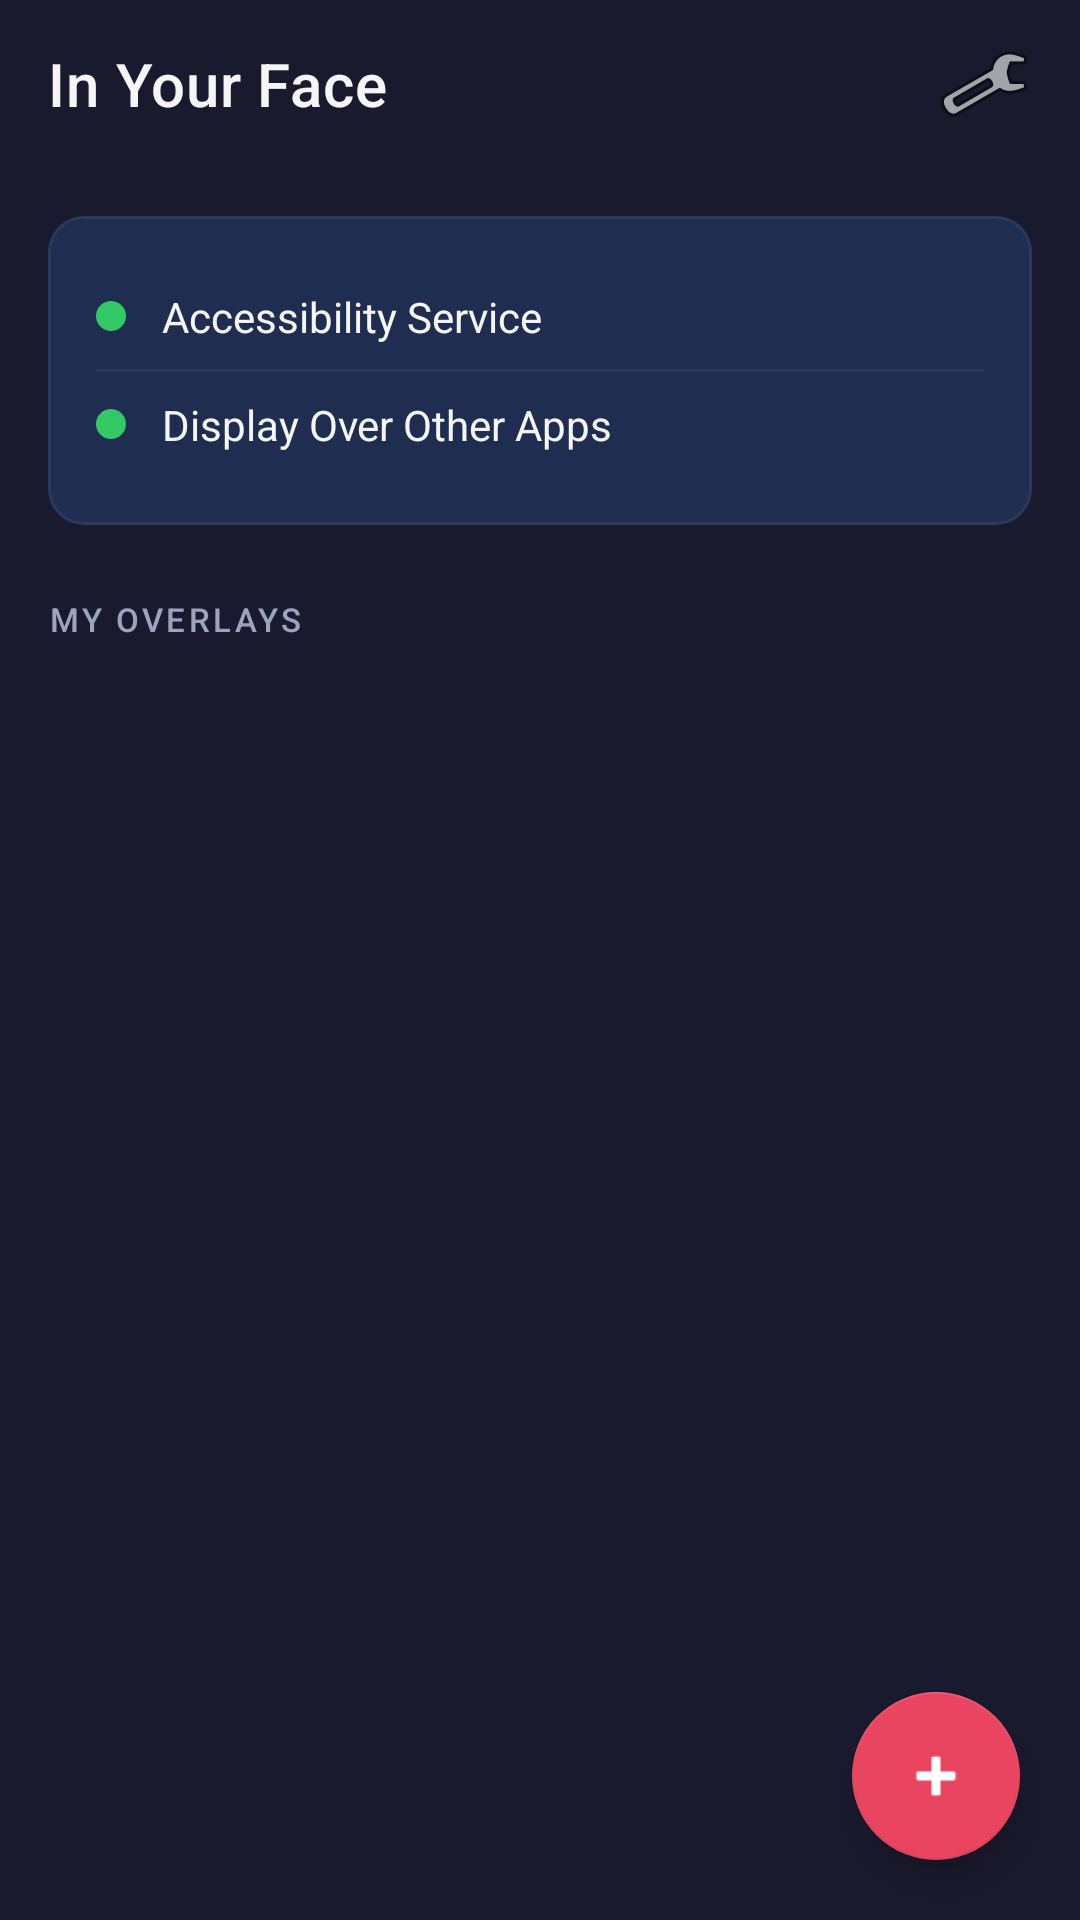

Named icons in this screenshot (1080w x 1920h) and their centers, [x,y]:
Add Overlay: [936,1776]
